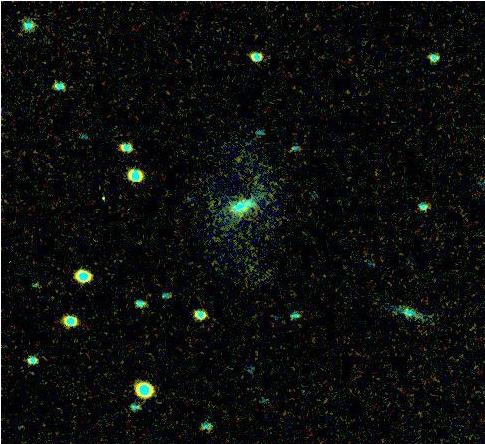star: (224, 143, 254, 173)
